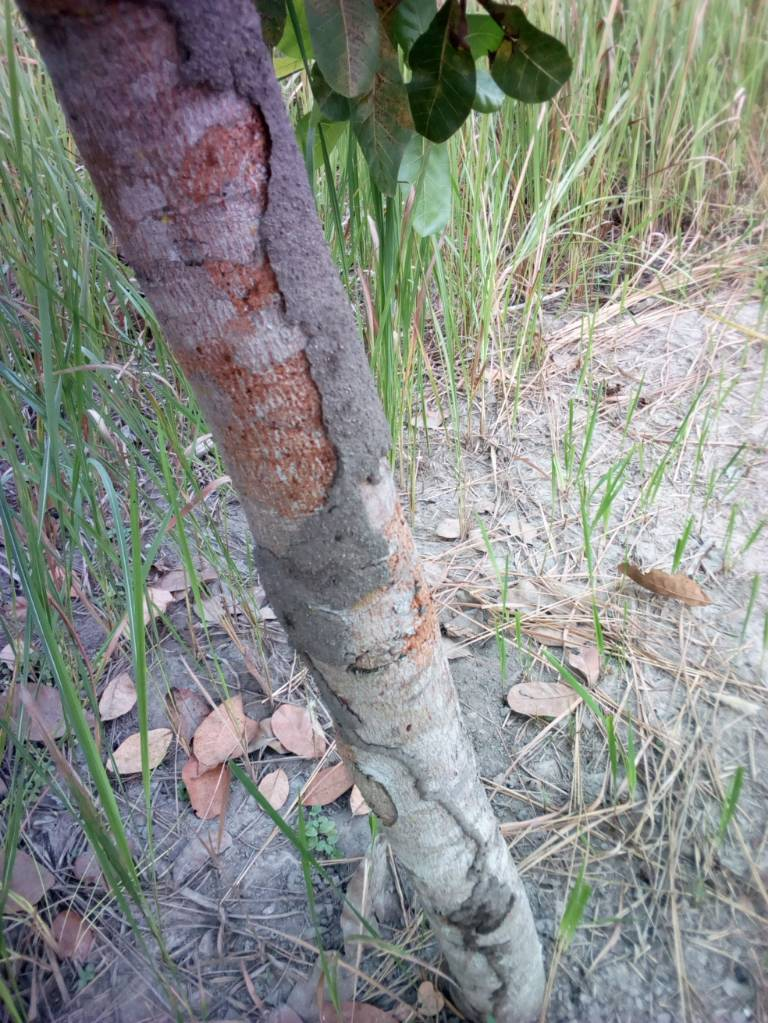Termites: (197, 8, 397, 638), (443, 807, 524, 1016)
